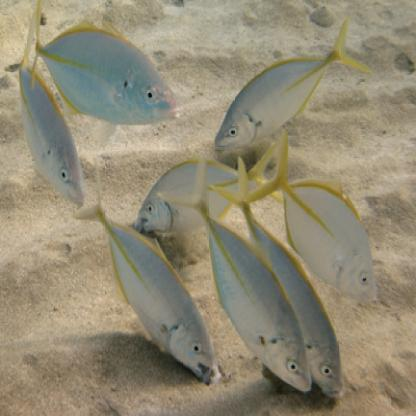jack: (163, 166, 319, 393), (213, 165, 353, 407), (71, 162, 217, 386), (240, 127, 382, 305), (211, 12, 380, 152), (25, 1, 181, 127), (5, 26, 87, 210)
